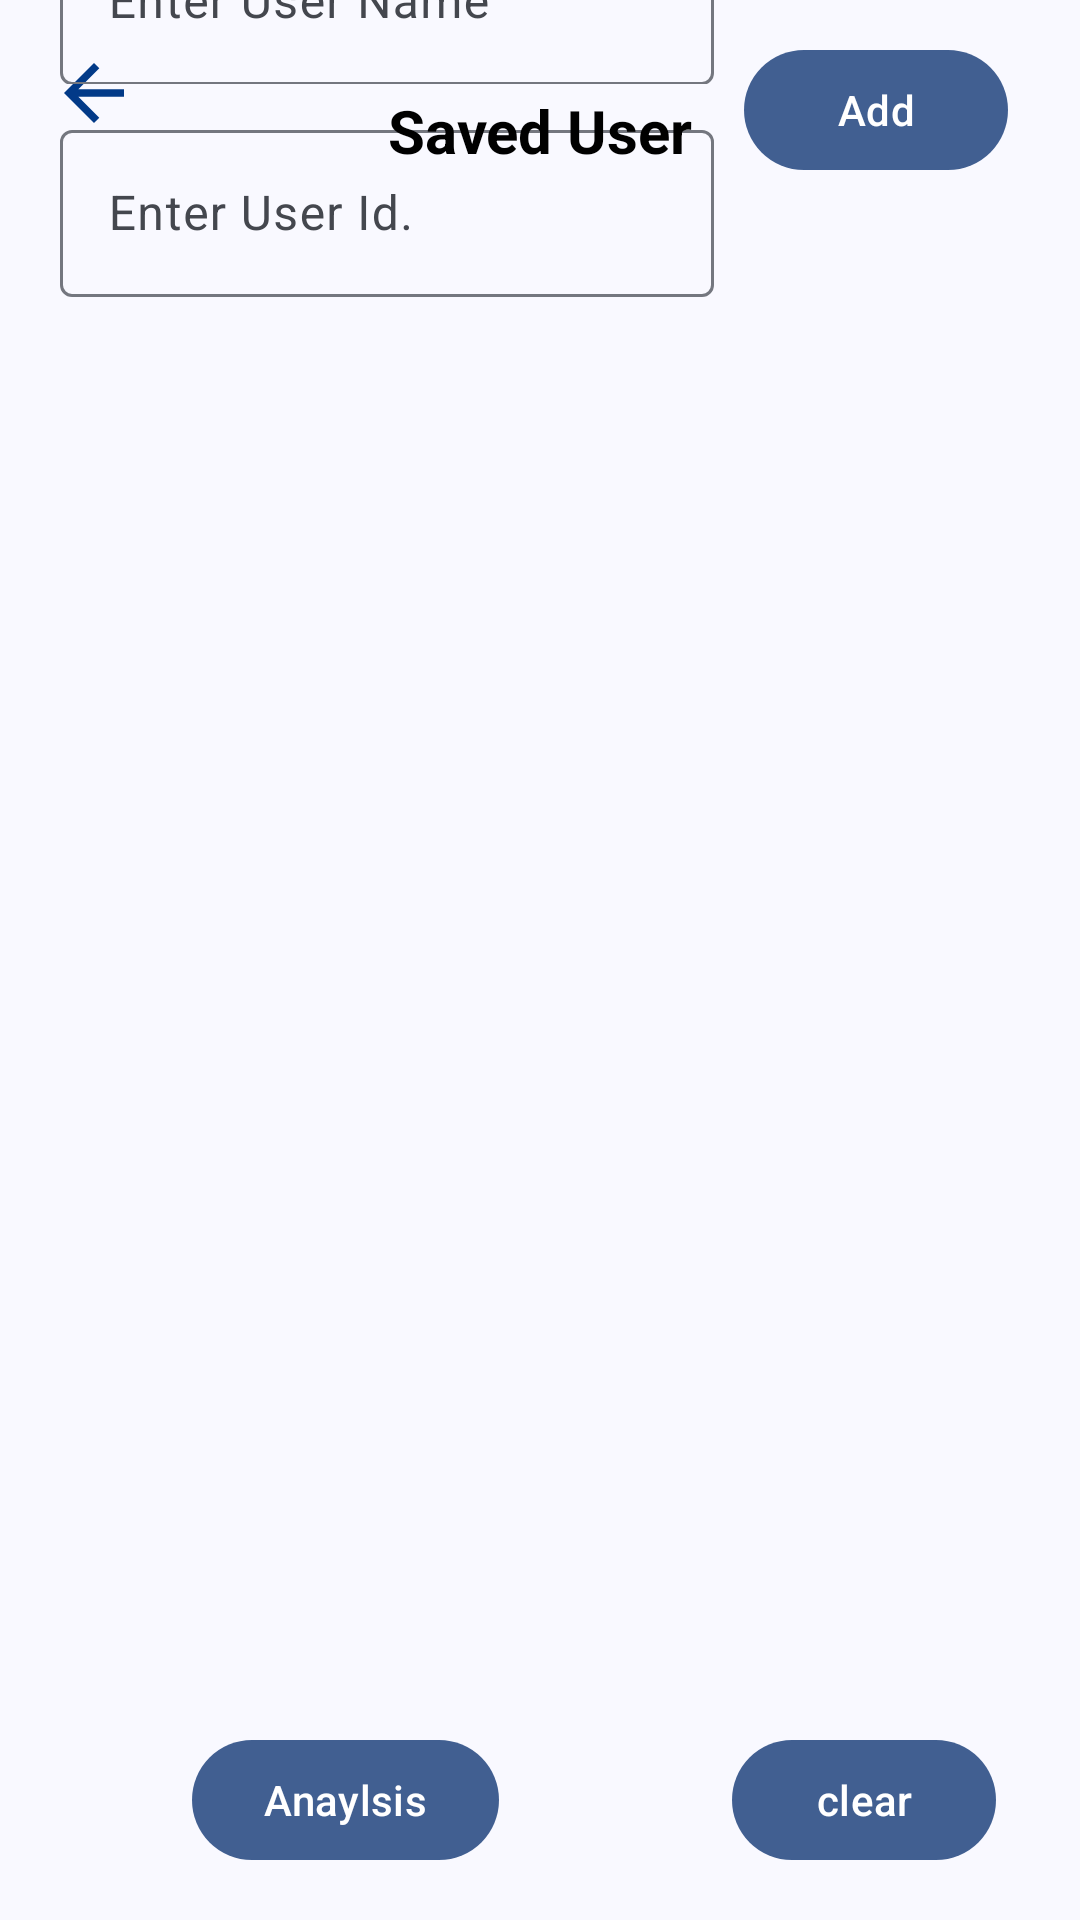

Icon bounding boxes for this 1080×1920 phone screenshot, format (x1=x1, y1=y1, x2=x2, y2=y2):
back: (x1=60, y1=48, x2=139, y2=138)
